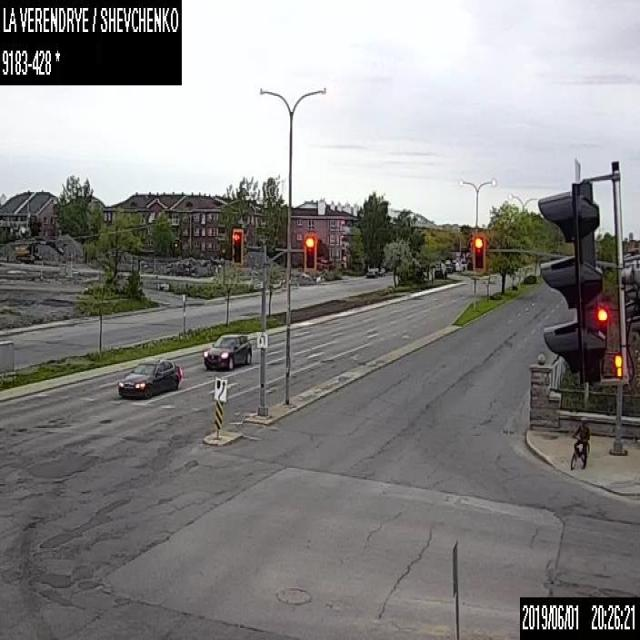cyclist: (570, 415, 591, 468)
vehicle: (117, 357, 180, 399), (203, 332, 251, 371), (434, 266, 446, 278), (366, 267, 377, 277), (377, 267, 385, 275)
